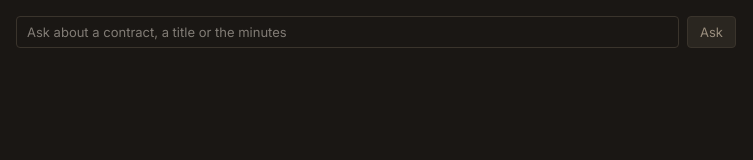
Test: AskPage › counts elapsed seconds (fake timers)
Later steps or results of the test are not shown.
Type "How long?" into the field named "Question". click: (348, 32)
box: [16,16,679,48]
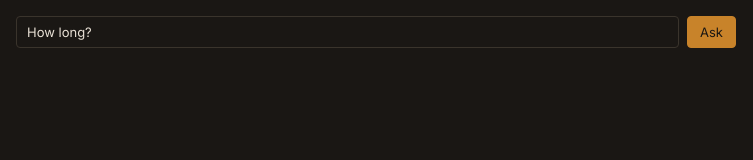
Submit the form named "Question", box [16,16,736,48]
Wait 12400 ms
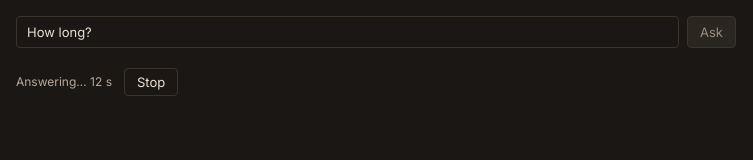
expect the message reads "Answering… 12 s": met, box [16,73,112,91]
